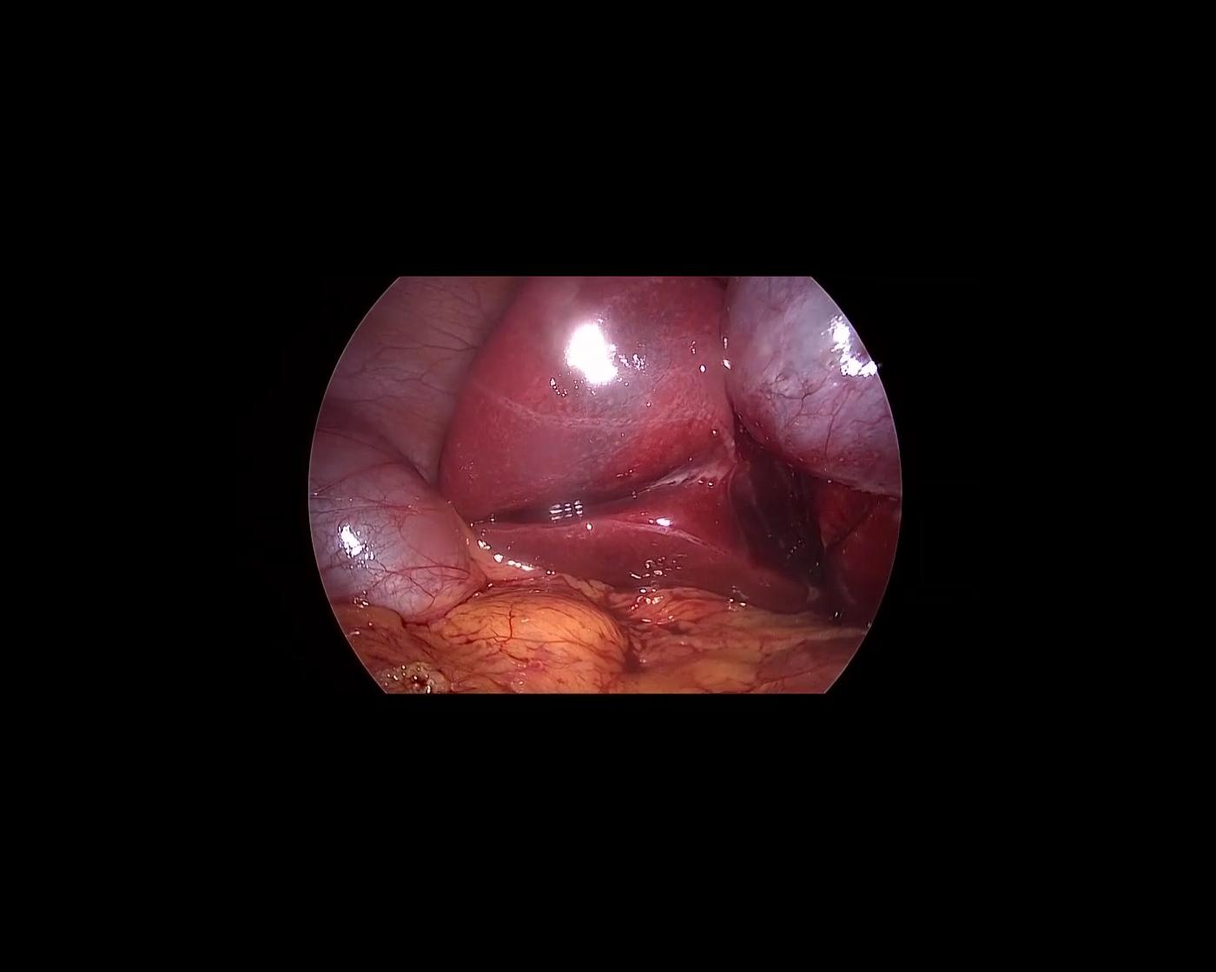Gallbladder: (696, 243, 912, 534)
Liver: (441, 277, 817, 611)
